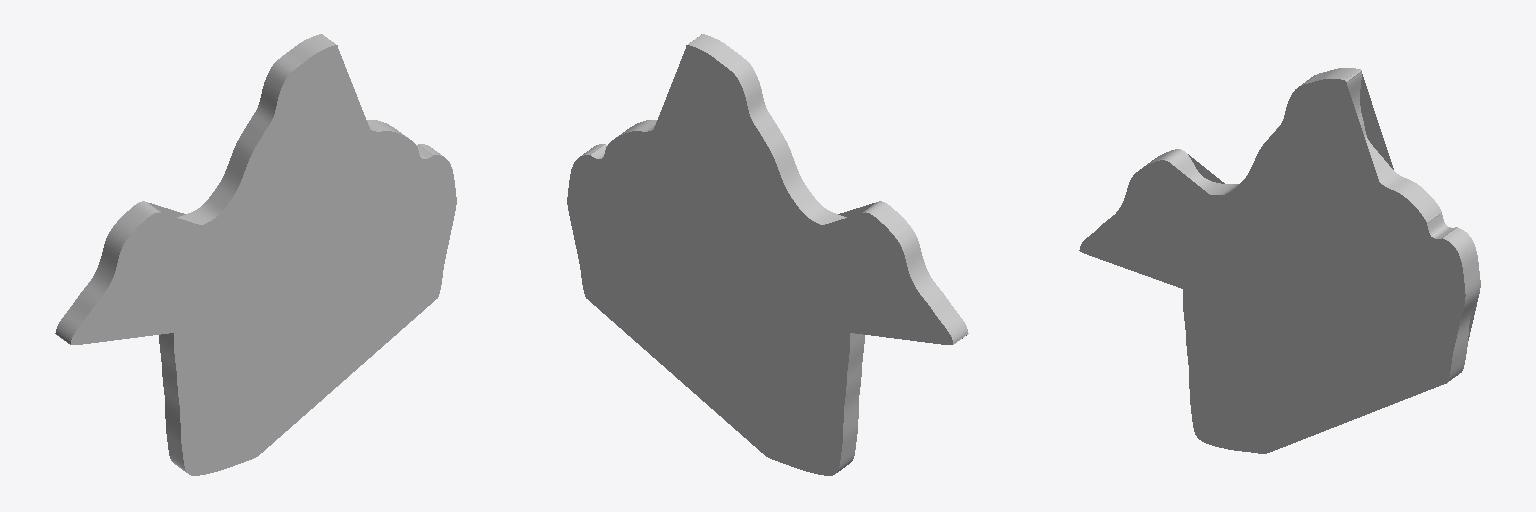
3 renders of one model, left to right at view 1: azimuth 30°, elevation 25°; view 2: azimuth 150°, elevation 25°; view 3: azimuth 330°, elevation 25°, orthographic.
Parts seen in each view (by area): view 1: 平面; view 2: 平面; view 3: 平面.
Part boxes in pixels (x1,y1,x2,y2): 平面: (55,34,456,475); 平面: (567,34,968,475); 平面: (1079,68,1480,453).
Bounding box in the file's own units: 2.95 × 2.9 × 0.2.